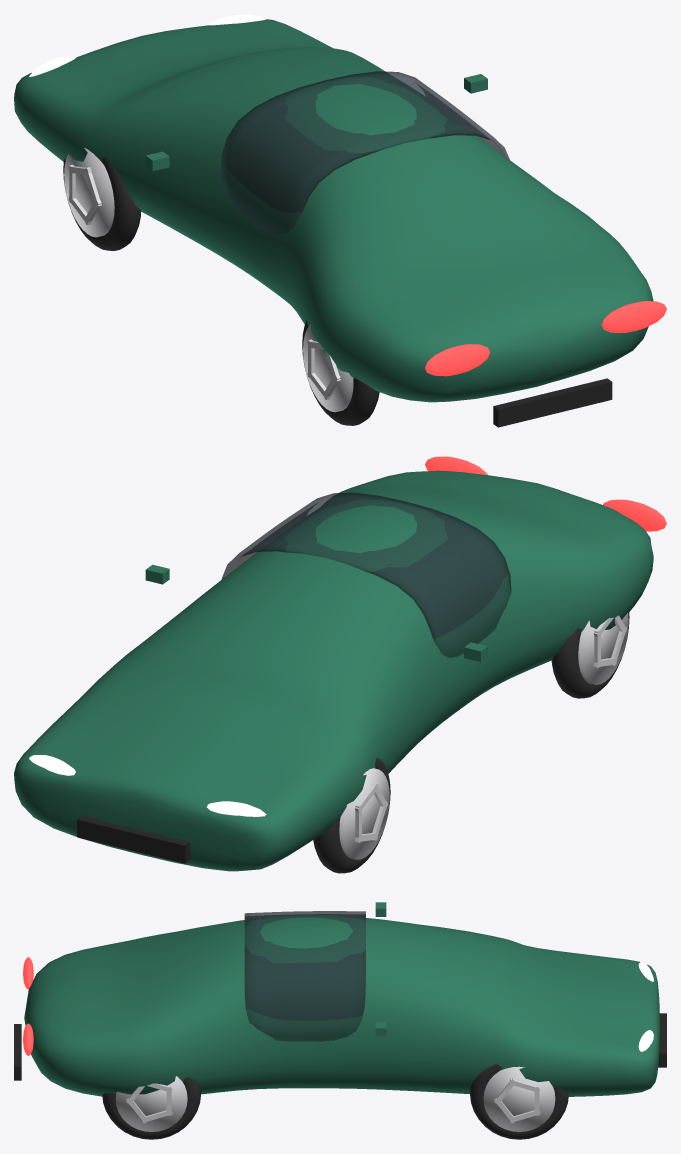
Rendered from mazda_rx-7_type_r_1992.glb.
3 renders of one model, top to bottom at view 1: azimuth 30°, elevation 25°; view 2: azimuth 150°, elevation 25°; view 3: azimuth 270°, elevation 25°, orthographic. The views are drawn at different scales.
Visible parts, largest first — view 1: Body, Glass, Diffuser, Rim_FR, Tyre_FR, Rim_RR, Taillight_R, Taillight_L, Tyre_RR; view 2: Body, Glass, FrontIntake, Rim_FR, Rim_RR, Tyre_RR, Tyre_FR, Taillight_R, Taillight_L, Headlight_R; view 3: Body, Glass, Rim_FL, Rim_RL, Tyre_FL, Tyre_RL, Diffuser, FrontIntake.
Boxes of the visible parts, bbox=[...] form: Body: bbox=[14, 19, 653, 402]; Glass: bbox=[221, 71, 509, 237]; Diffuser: bbox=[493, 378, 612, 427]; Rim_FR: bbox=[64, 148, 114, 237]; Tyre_FR: bbox=[63, 156, 141, 250]; Rim_RR: bbox=[303, 324, 353, 412]; Taillight_R: bbox=[425, 344, 490, 376]; Taillight_L: bbox=[601, 301, 666, 332]; Tyre_RR: bbox=[302, 320, 379, 425]; Body: bbox=[14, 470, 653, 871]; Glass: bbox=[221, 492, 511, 657]; FrontIntake: bbox=[77, 816, 190, 863]; Rim_FR: bbox=[339, 768, 389, 859]; Rim_RR: bbox=[578, 613, 628, 684]; Tyre_RR: bbox=[551, 612, 629, 698]; Tyre_FR: bbox=[313, 758, 390, 873]; Taillight_R: bbox=[603, 499, 666, 531]; Taillight_L: bbox=[425, 456, 487, 474]; Headlight_R: bbox=[206, 801, 266, 816]; Body: bbox=[24, 915, 659, 1096]; Glass: bbox=[244, 911, 365, 1041]; Rim_FL: bbox=[483, 1066, 555, 1131]; Rim_RL: bbox=[115, 1076, 187, 1131]; Tyre_FL: bbox=[470, 1063, 568, 1139]; Tyre_RL: bbox=[102, 1076, 200, 1139]; Diffuser: bbox=[14, 1024, 21, 1080]; FrontIntake: bbox=[658, 1013, 666, 1067].
Size of the model in its own units: 1.97 by 1.19 by 4.3.
